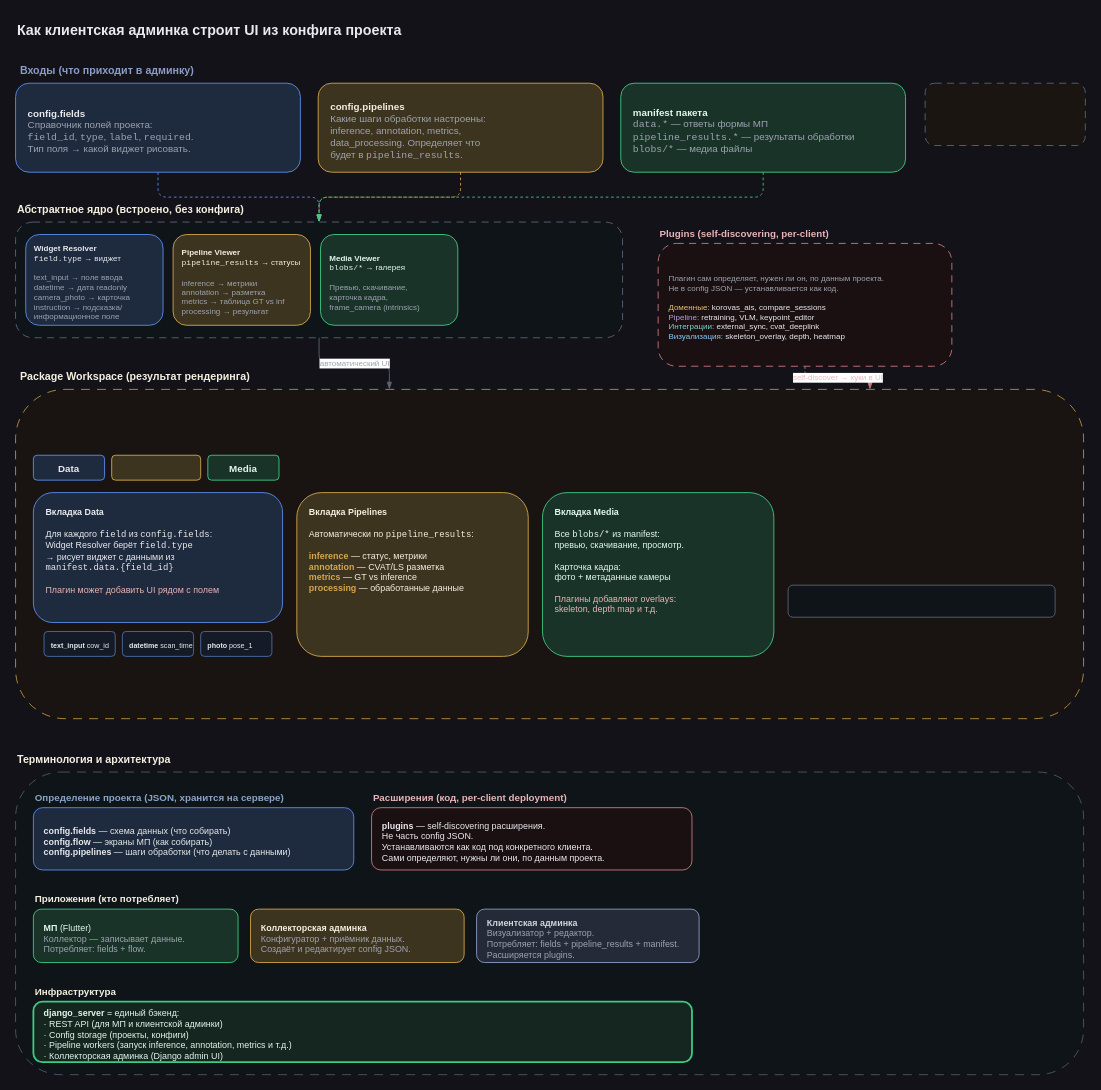
Some shapes in this 1101 by 1090 pixel diagram are drawn without their labels. The centre of each missing label's shape, as x and y in pixels:
"config.admin_ui — нет . UI строится автоматически. config.flow — только для МП." goes at point (1004, 114).
"Pipelines" goes at point (156, 467).
"Сохранение : правки → PATCH manifest через API платформы (django_server)." goes at point (921, 600).
